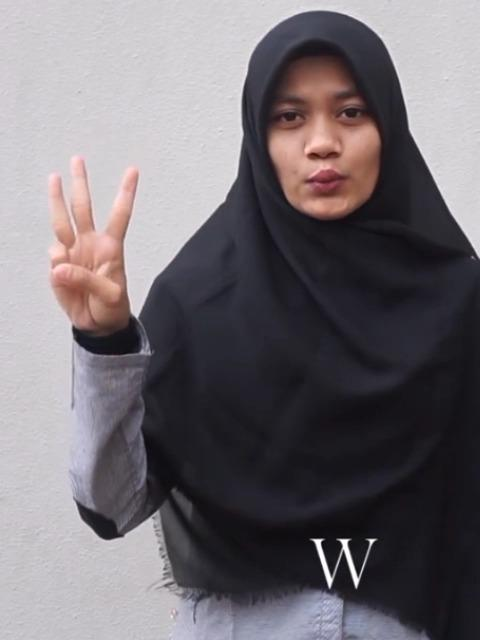W: (44, 158, 140, 326)
